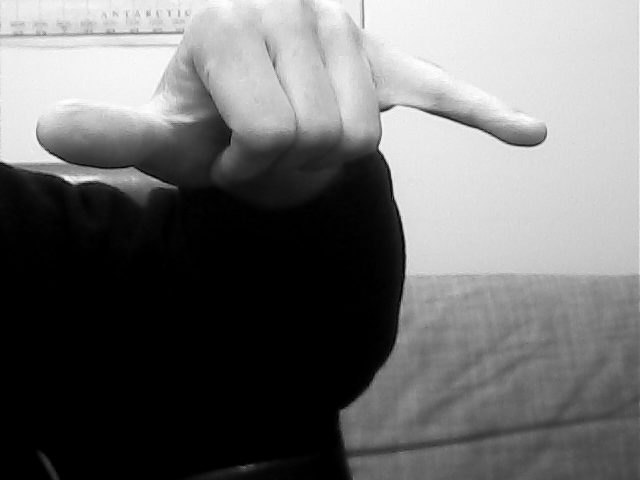aloha: (31, 1, 548, 195)
